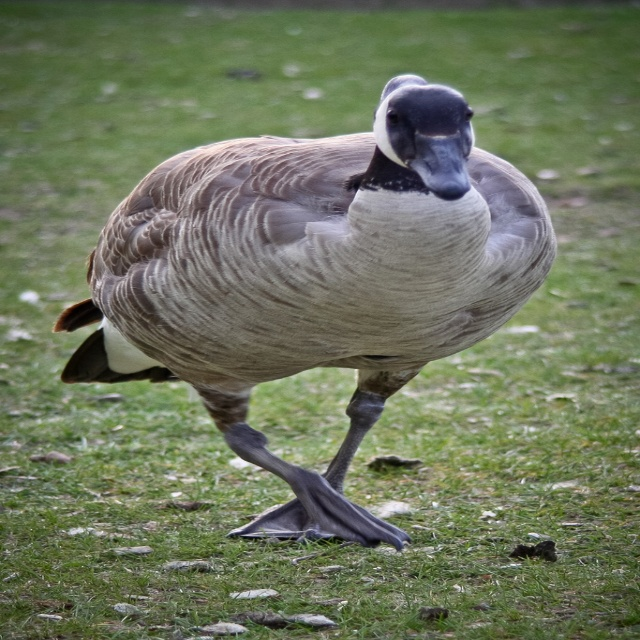Duck: (35, 62, 554, 562)
